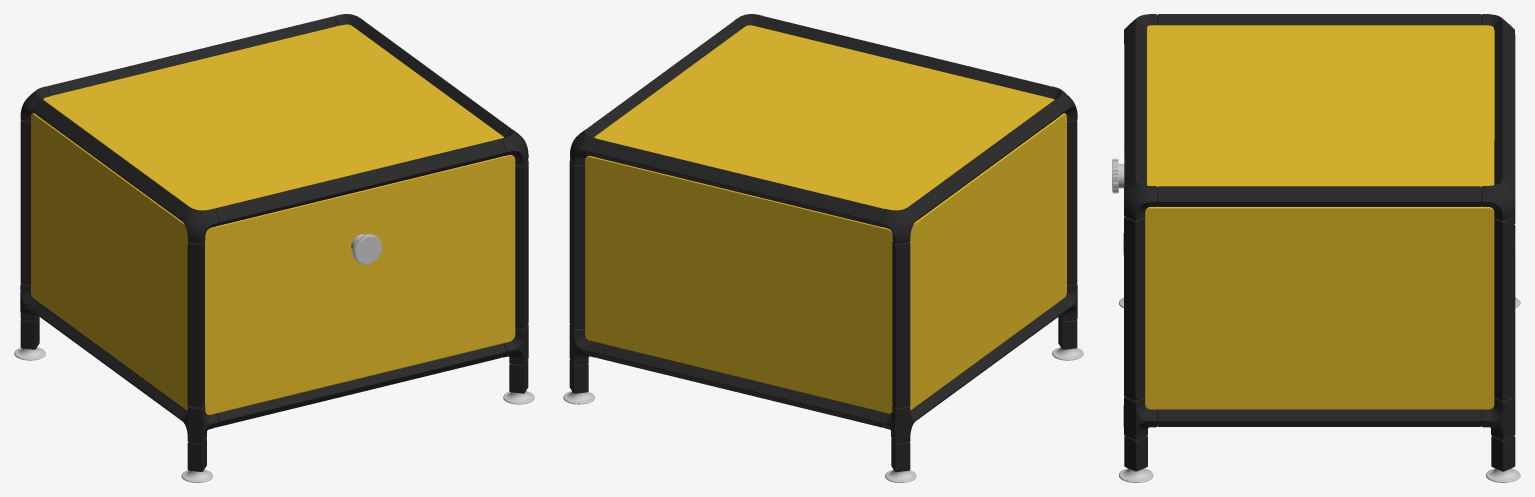
3 views of the same model, side by side, from view 1: azimuth 30°, elevation 25°; view 2: azimuth 150°, elevation 25°; view 3: azimuth 270°, elevation 25° (orthographic). The views are drawn at different scales.
Visible parts, largest first — view 1: 420x374x229; view 2: 420x374x229; view 3: 420x374x229.
Boxes of the visible parts, x1,y1,x2,y2 form: 420x374x229: [14, 14, 534, 482]; 420x374x229: [563, 14, 1083, 482]; 420x374x229: [1112, 14, 1520, 482].
Bounding box in the file's own units: 0.5099 × 0.3683 × 0.4706.
